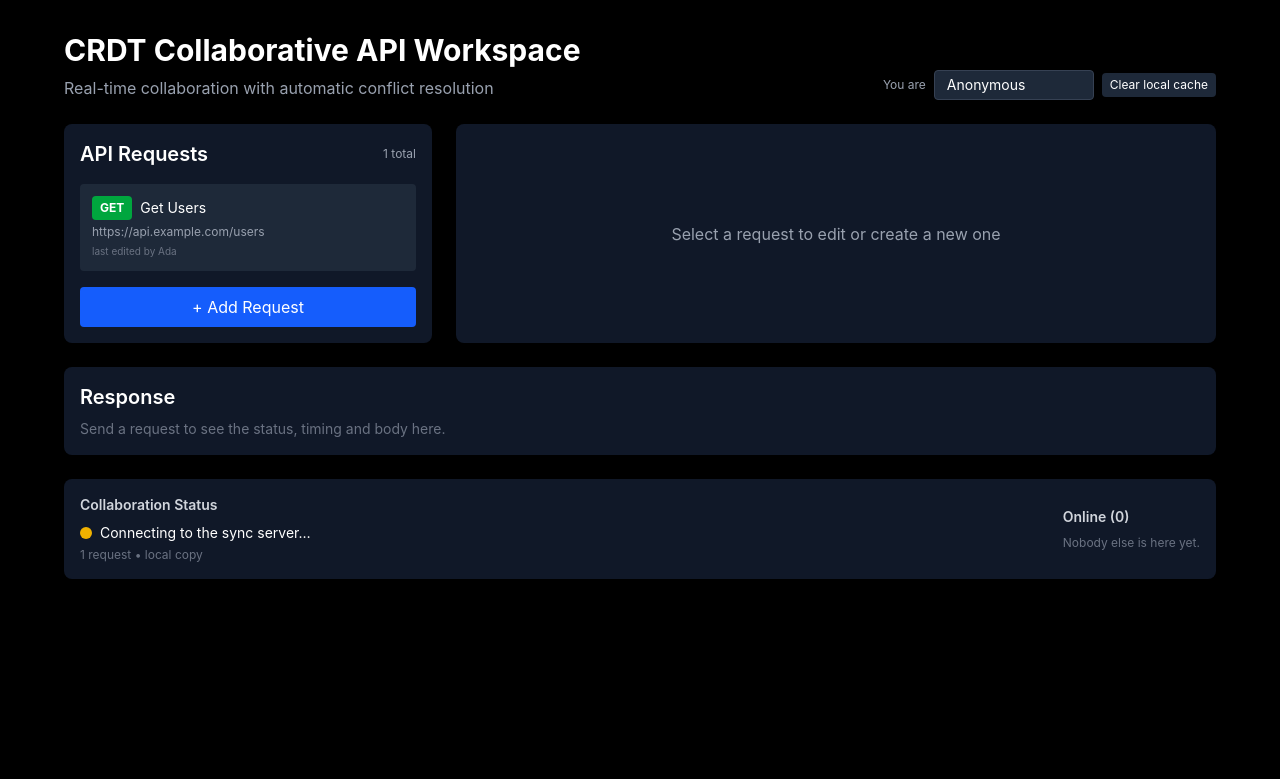
App › adds a request through the CRDT service
The width and height of the screenshot is (1280, 779).
Click the button "+ Add Request" at (248, 307), box [80,287,416,327]
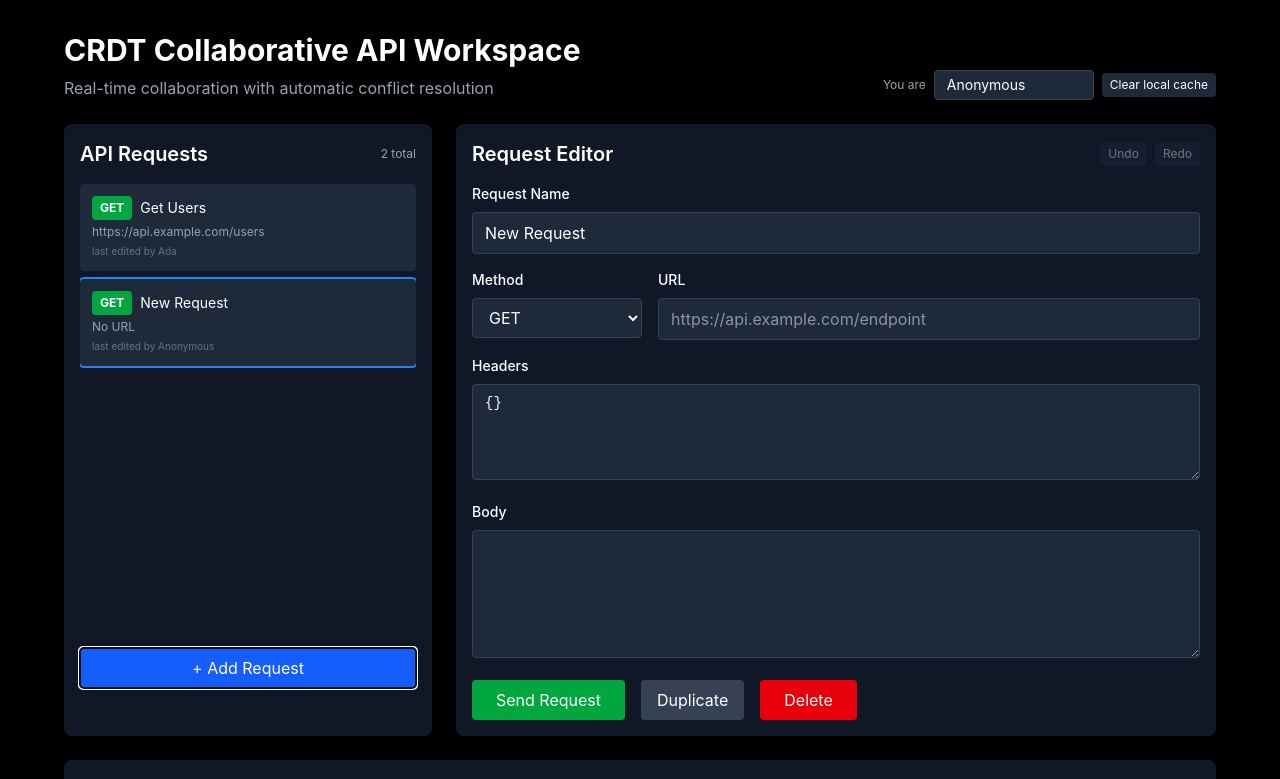
Check: the field labelled "Request Name" holds "New Request", box [472,212,1200,254]
Check: the text "2 total" is shown, box [381,146,416,162]
